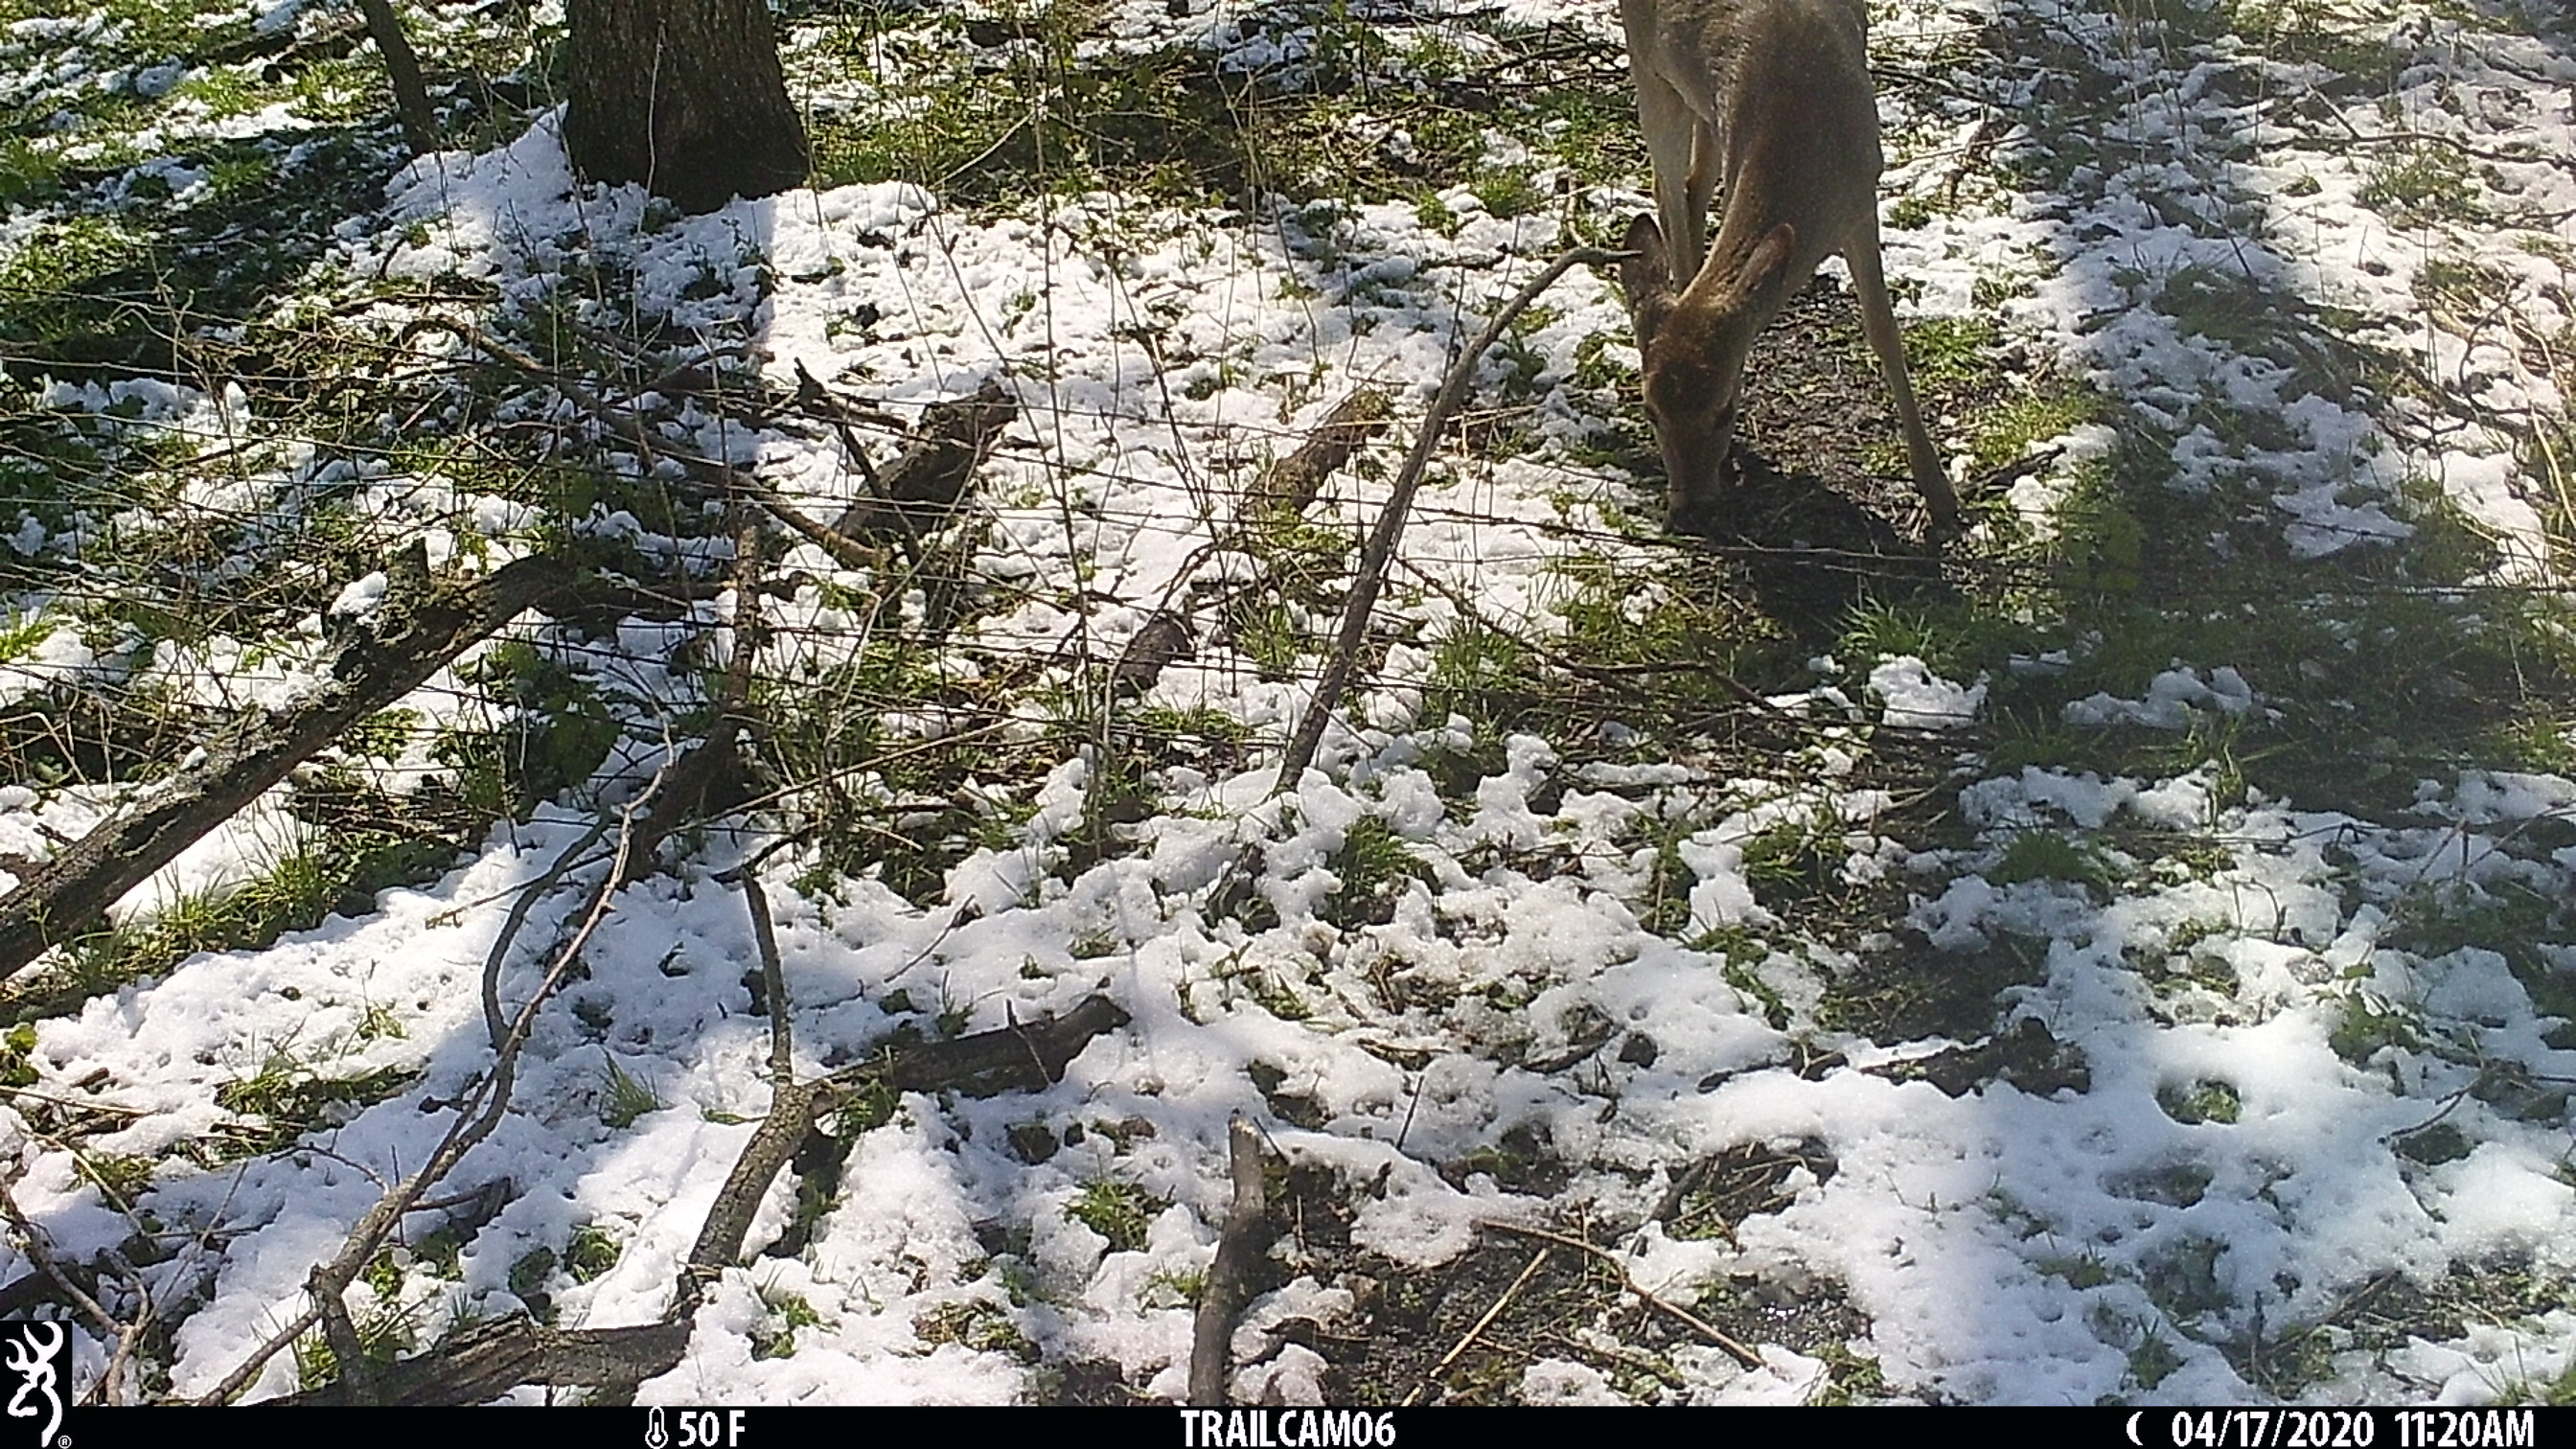DeerDoe: (1619, 2, 1966, 531)
